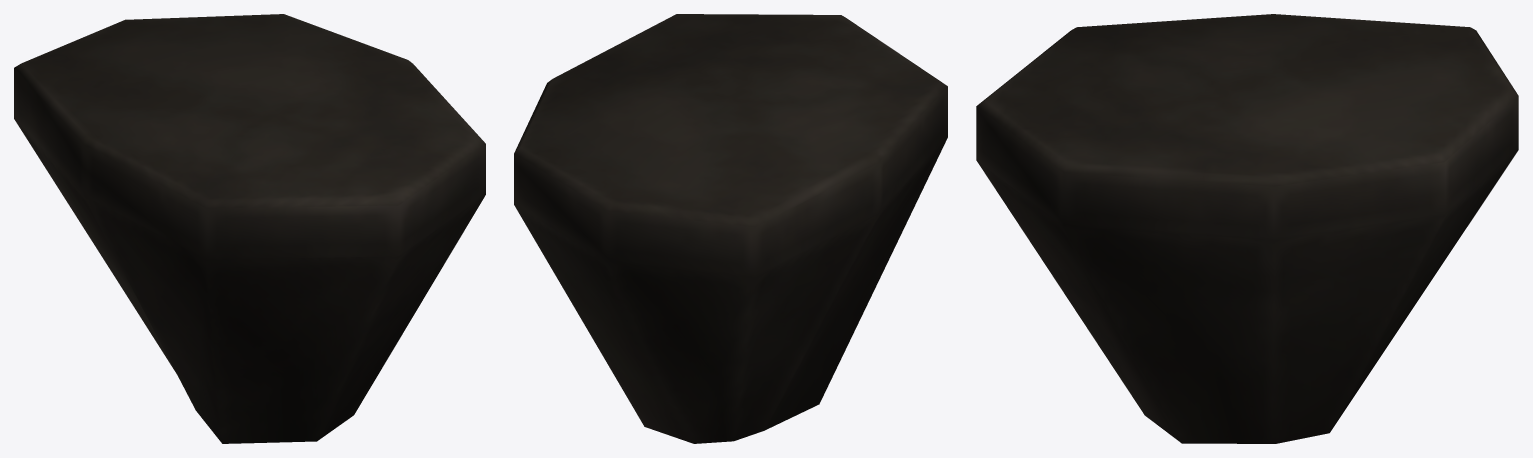
The model's file is StepStone2.FBX.
3 views of the same model, side by side, from view 1: azimuth 30°, elevation 25°; view 2: azimuth 150°, elevation 25°; view 3: azimuth 270°, elevation 25° (orthographic). The views are drawn at different scales.
Parts seen in each view (by area): view 1: StepStone2; view 2: StepStone2; view 3: StepStone2.
Part boxes in pixels (x1,y1,x2,y2): StepStone2: (14, 14, 485, 443); StepStone2: (514, 14, 947, 443); StepStone2: (976, 14, 1518, 443).
Bounding box in the file's own units: 2.08 × 1.81 × 2.82.
